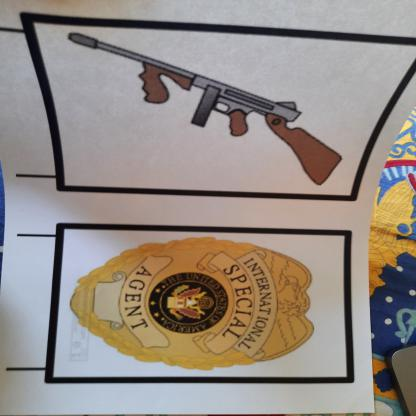Bootlegger: (46, 20, 360, 206)
G-man: (61, 230, 333, 380)
